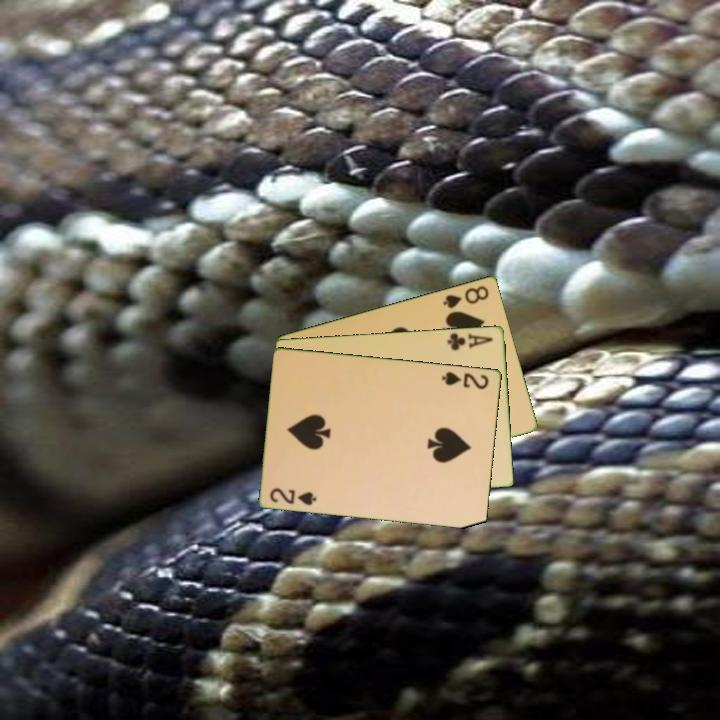2s: (438, 368, 492, 392), (267, 484, 320, 508)
8s: (440, 282, 492, 311)
Ac: (444, 329, 496, 353)
